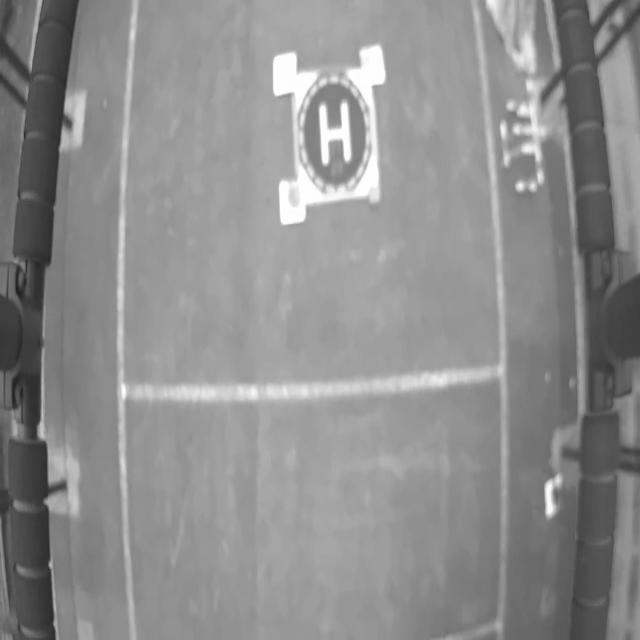Helipad: (319, 99, 353, 166)
